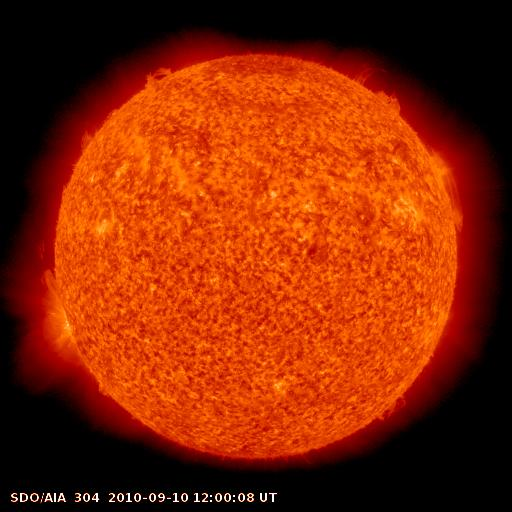prominence: (423, 141, 475, 251), (351, 58, 413, 128), (361, 383, 411, 431), (137, 55, 185, 101), (69, 121, 102, 150)
